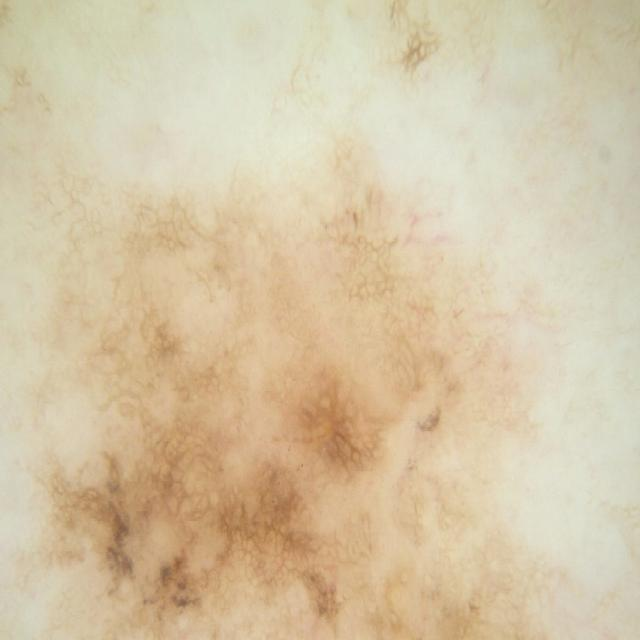Melanoma: (27, 135, 583, 640)
